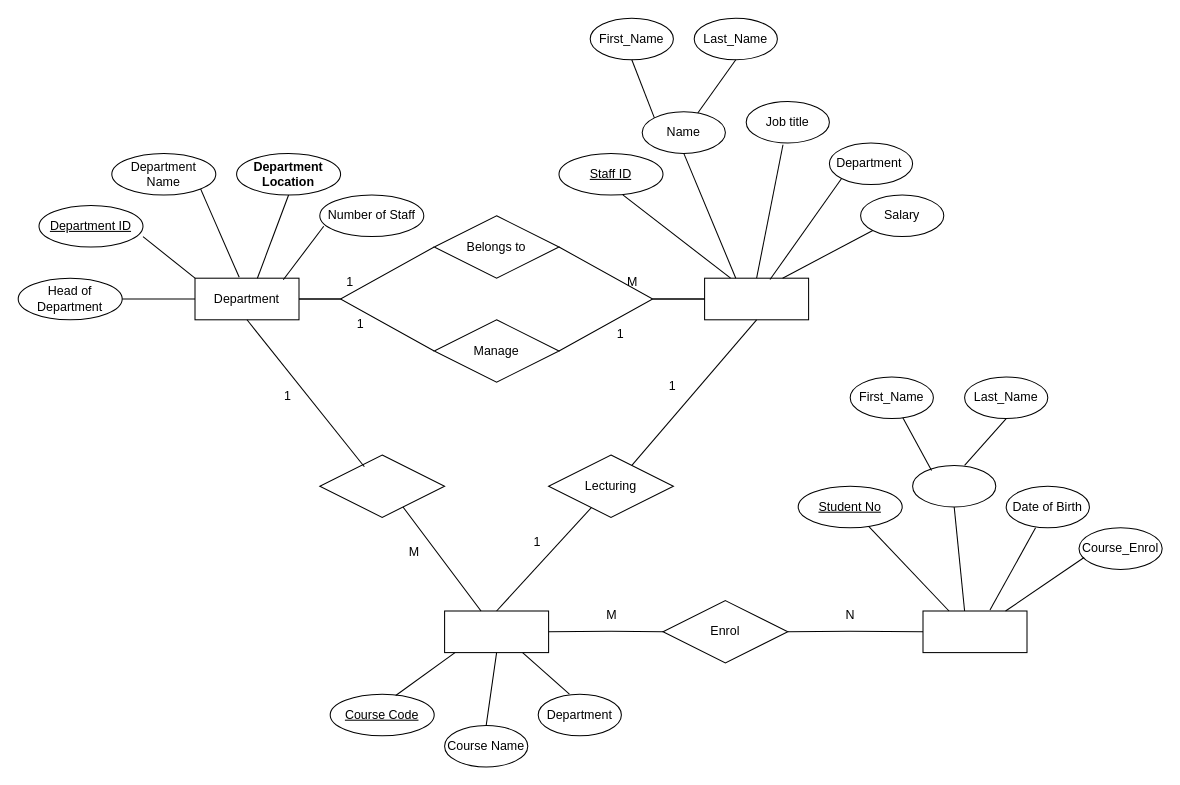
This 1180x785 diagram has some shape labels left out. Here are the shapes that lost their labels. From the top down, the centre of each, then its label:
point 756,298: Staff
point 382,485: Has
point 954,485: Student_Name
point 496,631: Course
point 974,631: Student
